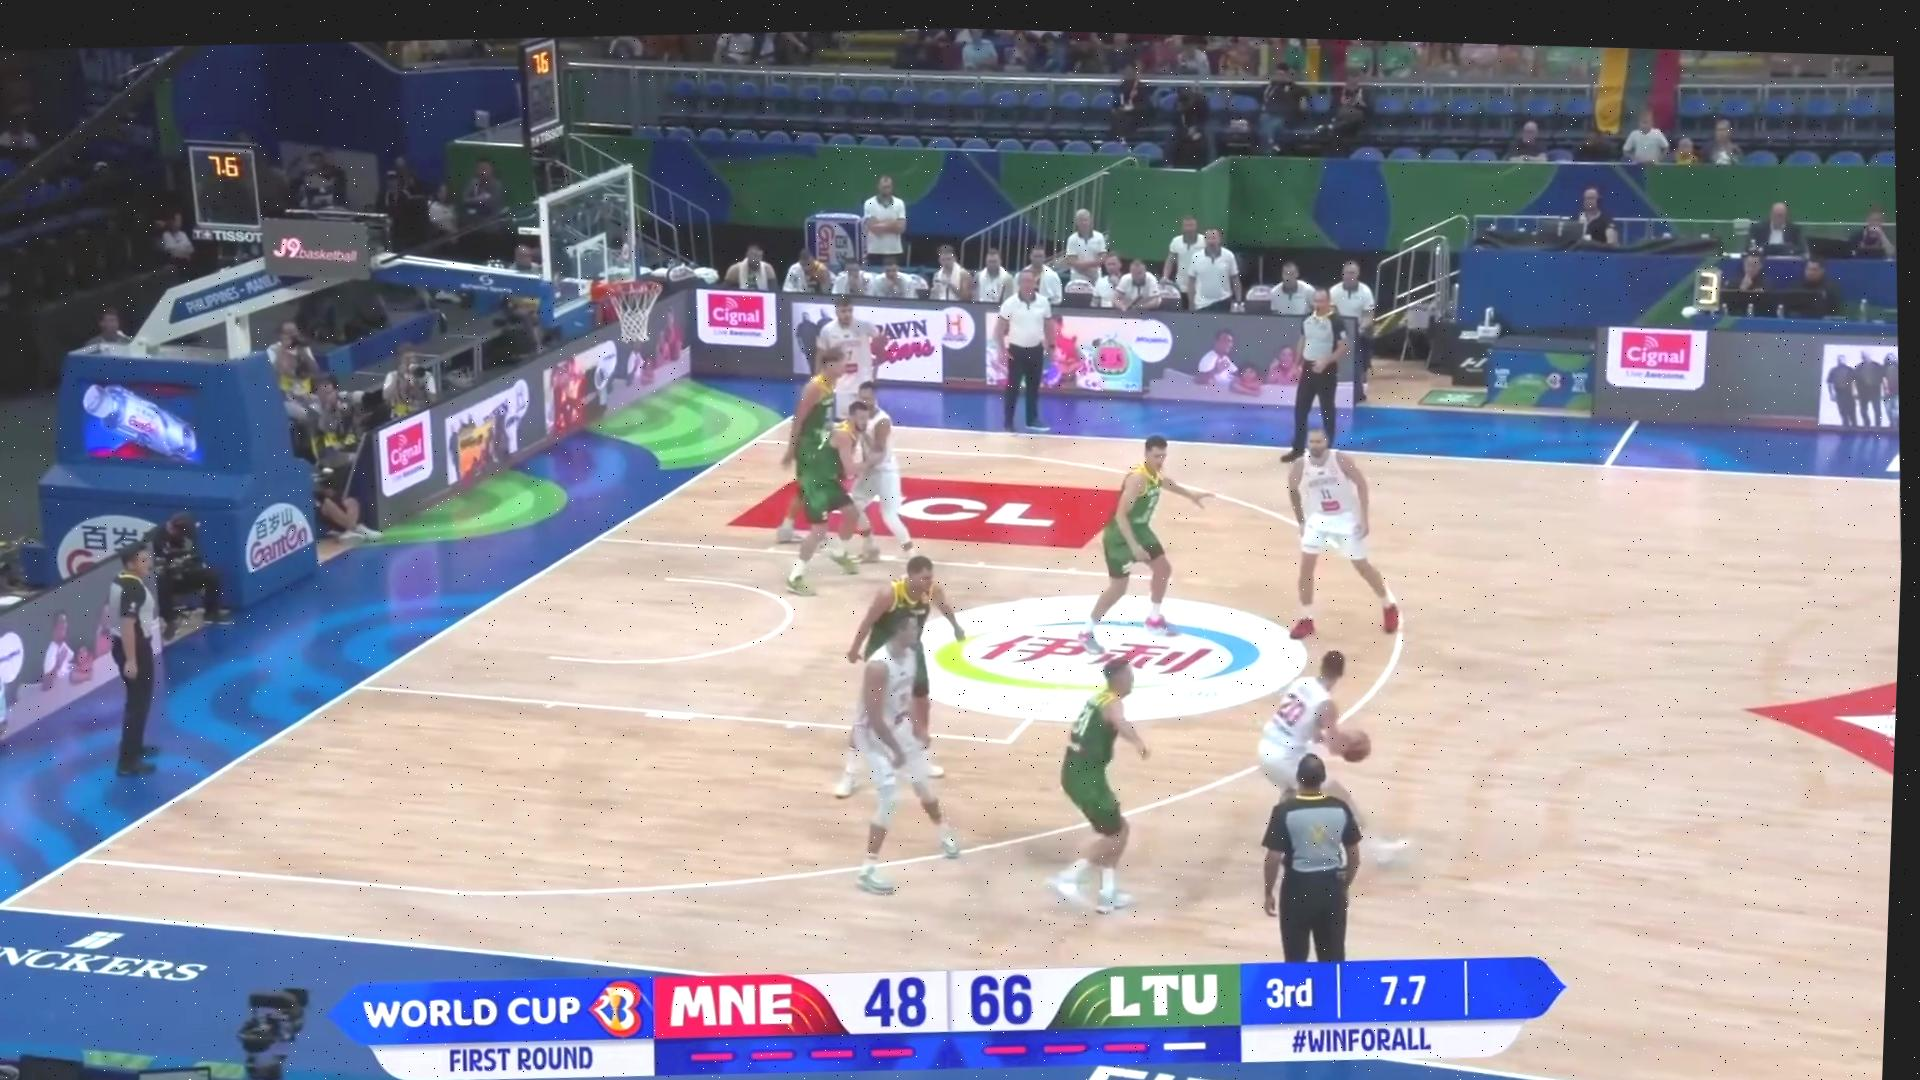no_foul: (1027, 589, 1406, 948)
